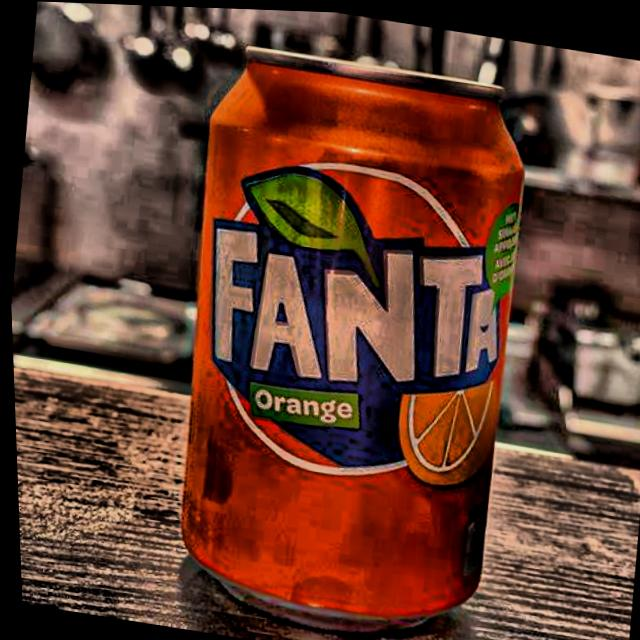Cans: (122, 14, 569, 640)
